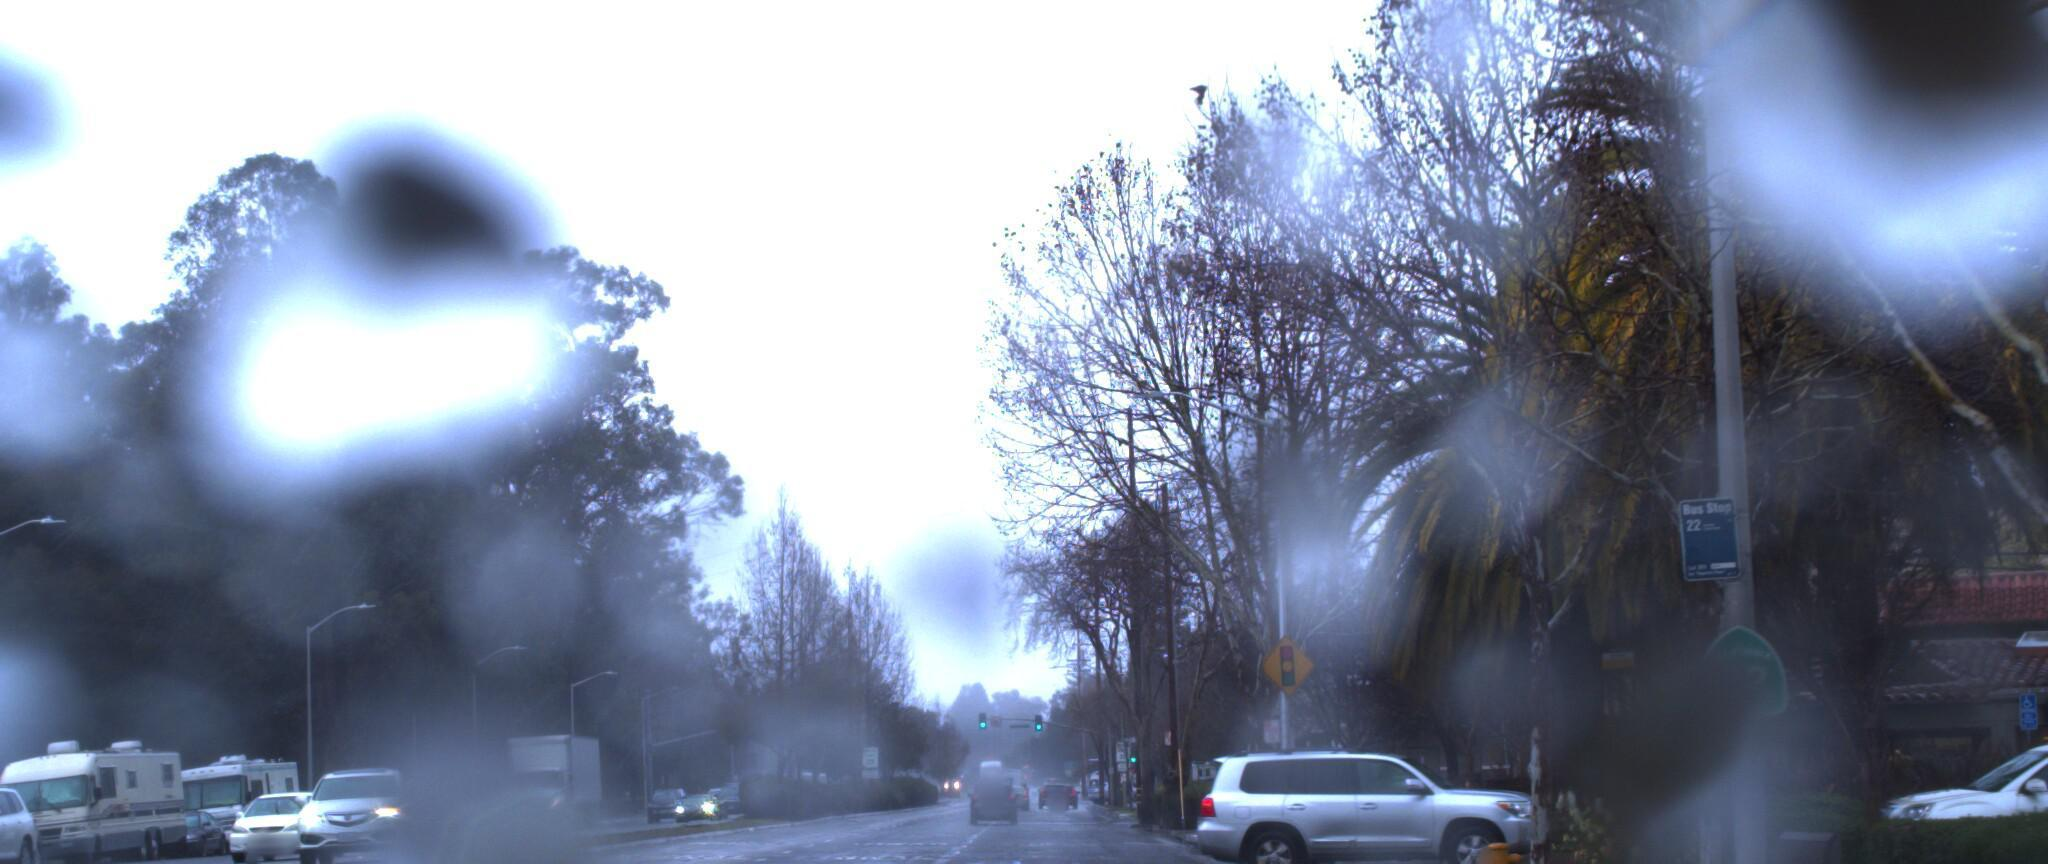car: (1178, 726, 1553, 864), (1826, 727, 2048, 864), (280, 760, 435, 861), (381, 765, 509, 852), (214, 780, 347, 859), (0, 780, 52, 864)
